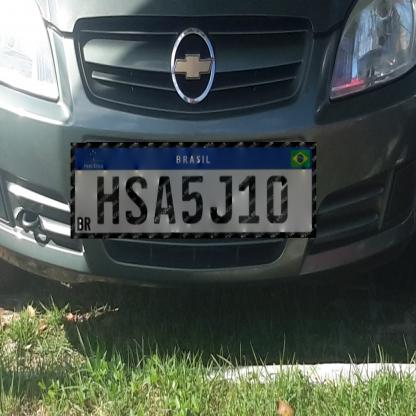PlacaM: (71, 142, 316, 238)
